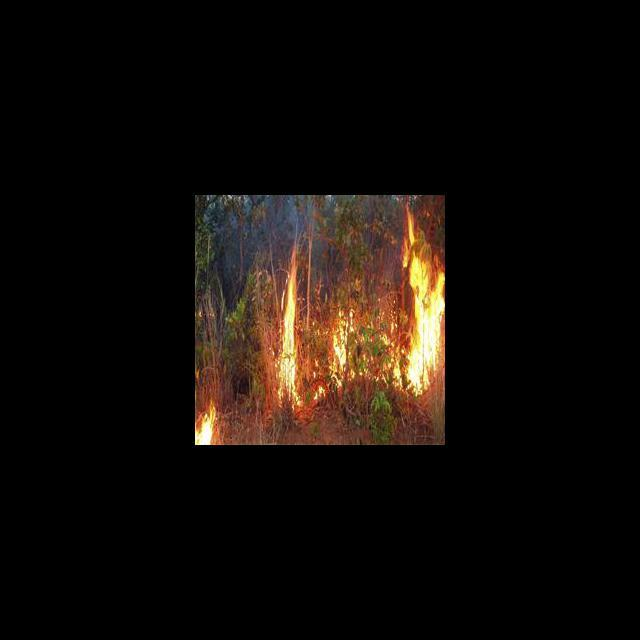Fire: (261, 199, 444, 408), (195, 383, 227, 445)
